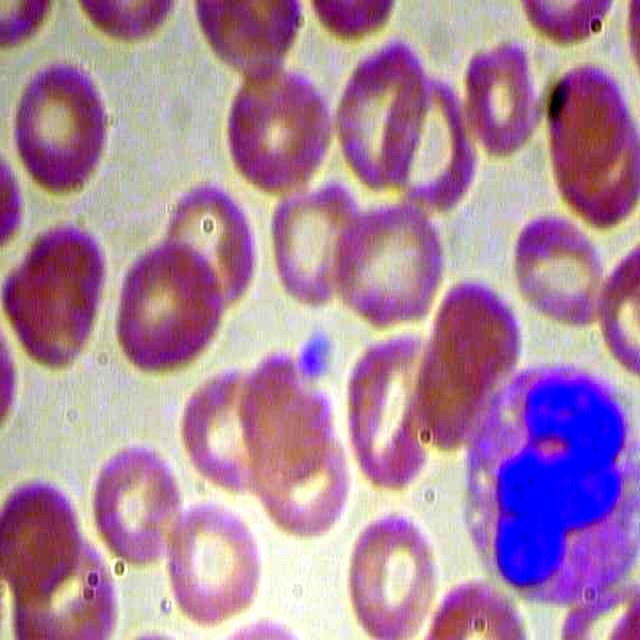Platelets: (296, 324, 341, 388)
RBC: (337, 333, 454, 491), (1, 221, 107, 391), (108, 235, 224, 381), (221, 55, 337, 201), (329, 196, 447, 333), (508, 197, 614, 335), (11, 57, 111, 195), (171, 502, 271, 640), (262, 180, 362, 309), (348, 502, 440, 640), (93, 436, 189, 567), (546, 55, 638, 177), (459, 39, 538, 164)
WBC: (454, 358, 640, 610)
